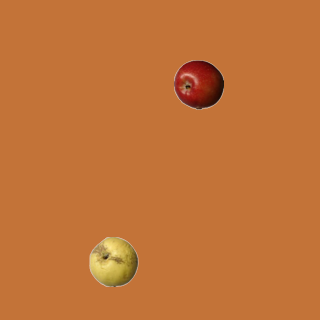Apple Braeburn: (173, 59, 223, 109)
Apple Golden 1: (88, 236, 138, 286)
